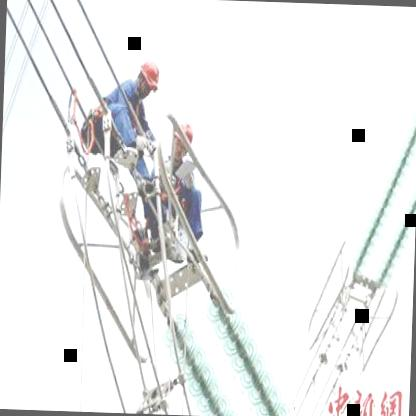helmet: (132, 54, 162, 101), (170, 113, 194, 166)
